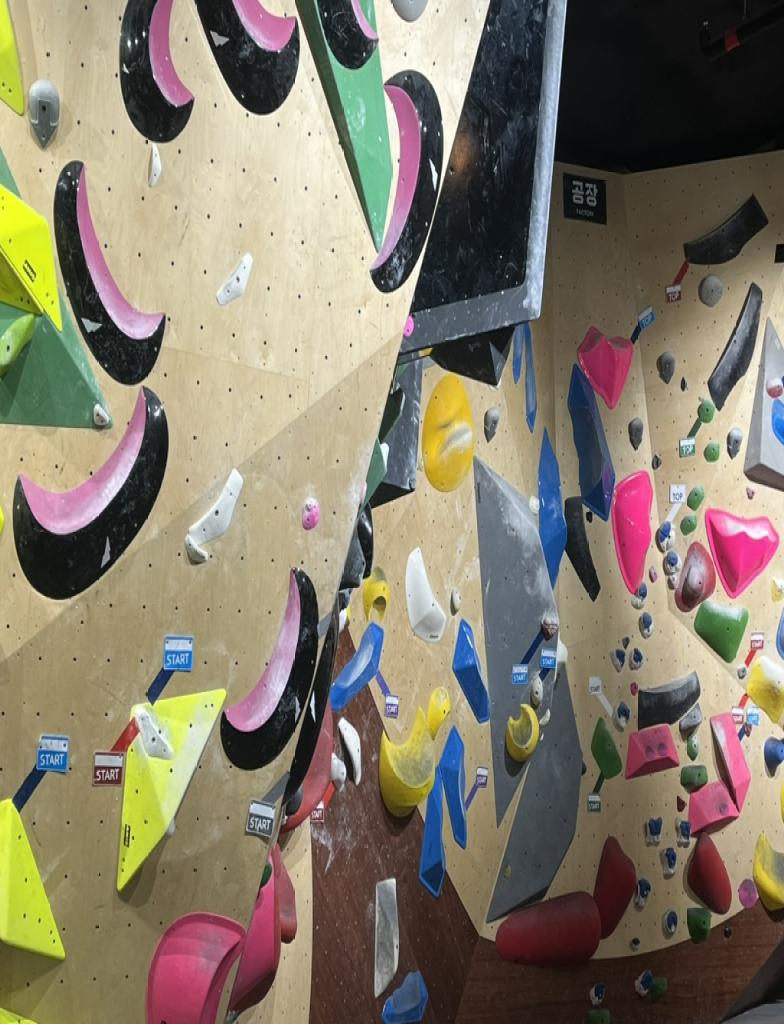crimp: (185, 469, 242, 560), (216, 252, 253, 304), (135, 708, 172, 759), (148, 143, 162, 187)
downhold: (29, 79, 58, 148)
ledge: (14, 387, 166, 597), (54, 161, 165, 384), (195, 0, 299, 113)
sidepull: (221, 568, 318, 768), (371, 71, 443, 291), (121, 0, 192, 143)
tape: (13, 735, 67, 809), (146, 636, 192, 703), (93, 717, 138, 785), (246, 773, 289, 840), (376, 671, 398, 717), (311, 781, 335, 821), (466, 767, 488, 808), (590, 677, 612, 716), (680, 419, 701, 456), (667, 484, 685, 520), (588, 772, 604, 811)
volume: (401, 0, 566, 357), (474, 457, 558, 824), (487, 665, 582, 921), (296, 0, 392, 249), (117, 689, 225, 891), (0, 800, 64, 959), (743, 317, 783, 489)
